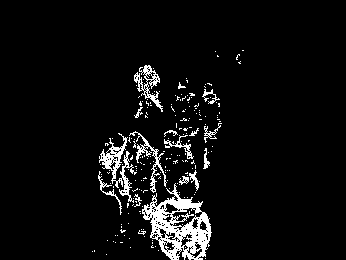person: (163, 178, 215, 260), (123, 131, 160, 234), (96, 130, 127, 232), (199, 78, 232, 168), (127, 61, 163, 129), (172, 71, 198, 156), (165, 131, 198, 179)
